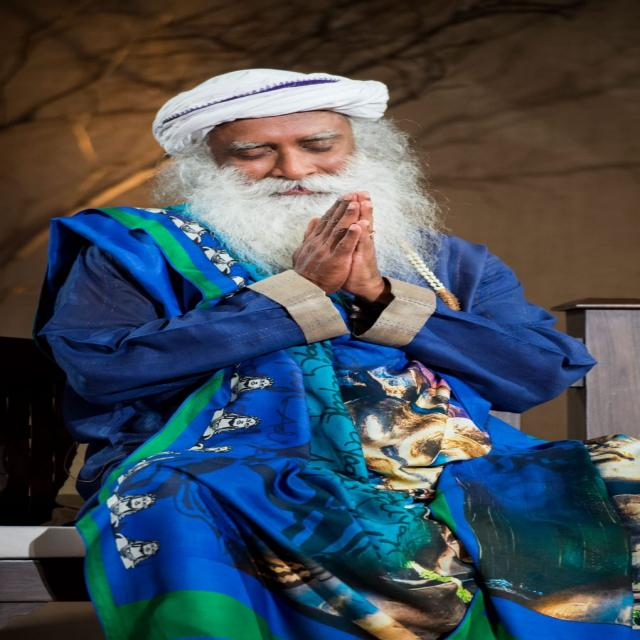Animals: (45, 59, 583, 479)
